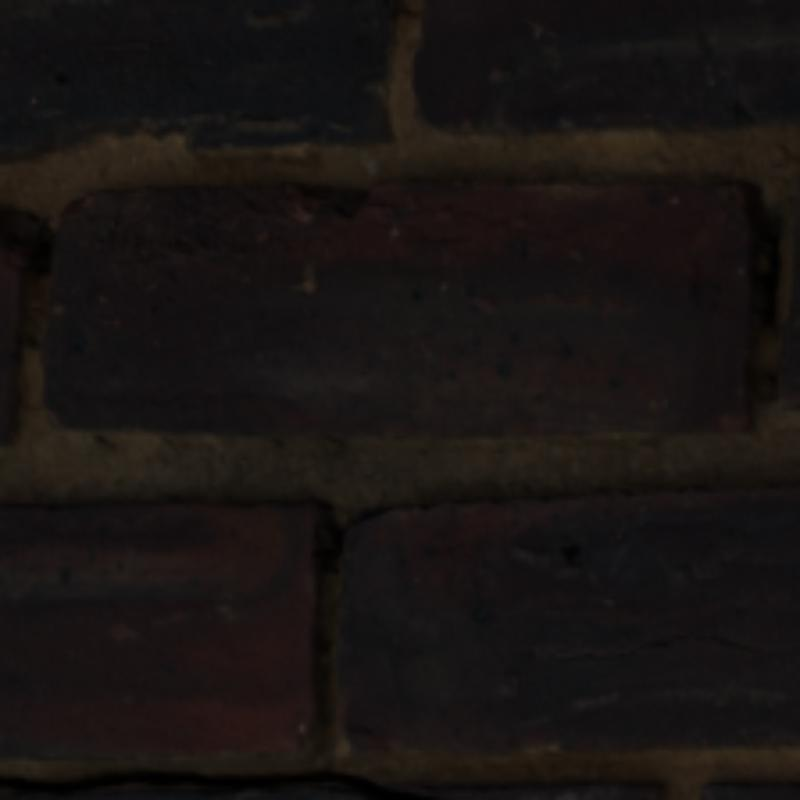crack: (0, 768, 443, 796)
